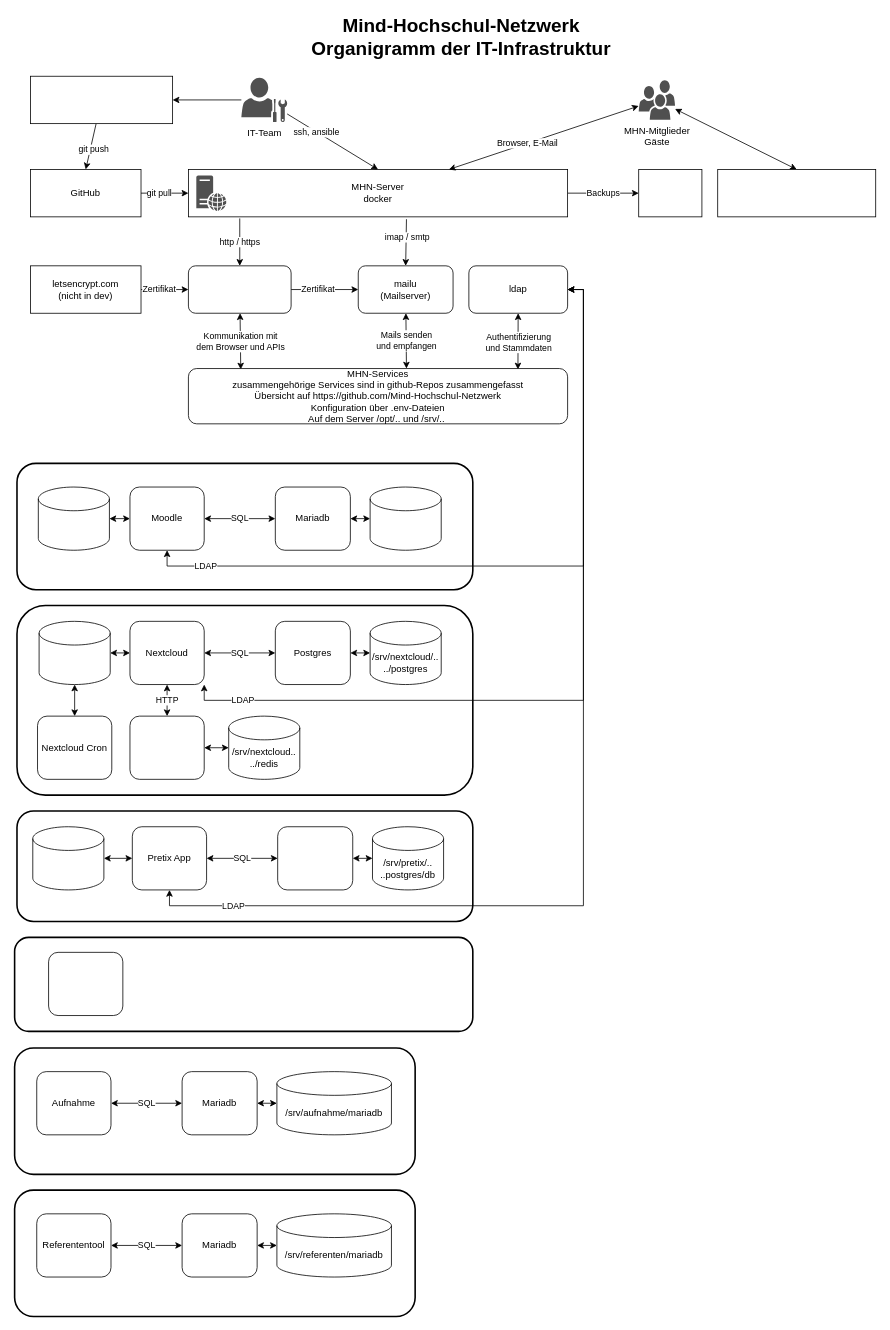
The diagram is 890 pixels wide and 1330 high, and some of its shapes have lost their labels. The shapes that lost their labels are listed below. From the top down, each one's centre as x and y in pixels, then its label:
the point at 101,99: Entwicklungsumgebung: git, docker Starten mit: make dev
the point at 670,193: Hetzner Storage box
the point at 796,193: Externe Services: Discord, ...
the point at 239,289: traefik (Reverse Proxy)
the point at 73,518: /srv/moodle/.. ..moodledata
the point at 405,518: /srv/moodle/.. ..mariadb
the point at 74,653: /srv/nextcloud.. ../app
the point at 166,747: Redis
the point at 68,858: /srv/pretix/data
the point at 315,858: Pretix DB (Postgres)
the point at 85,984: Akademie Webseite
